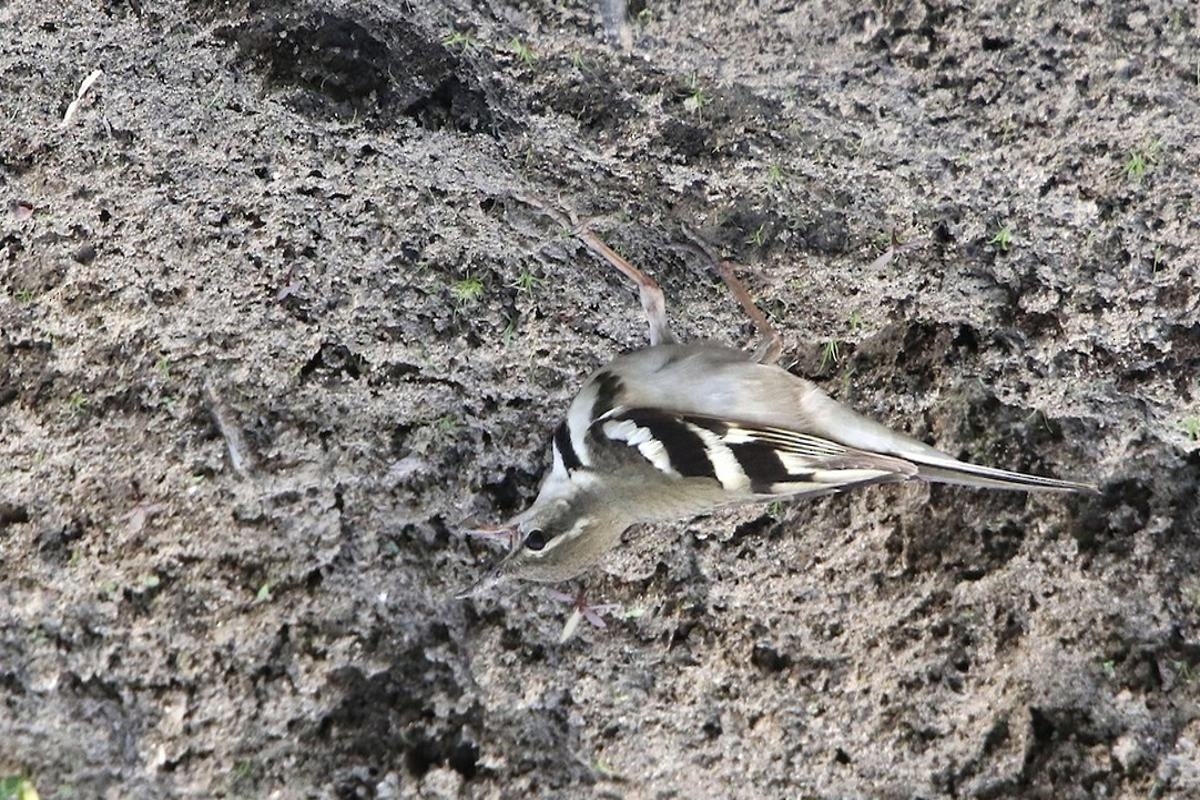wagtail: (478, 307, 1071, 603)
